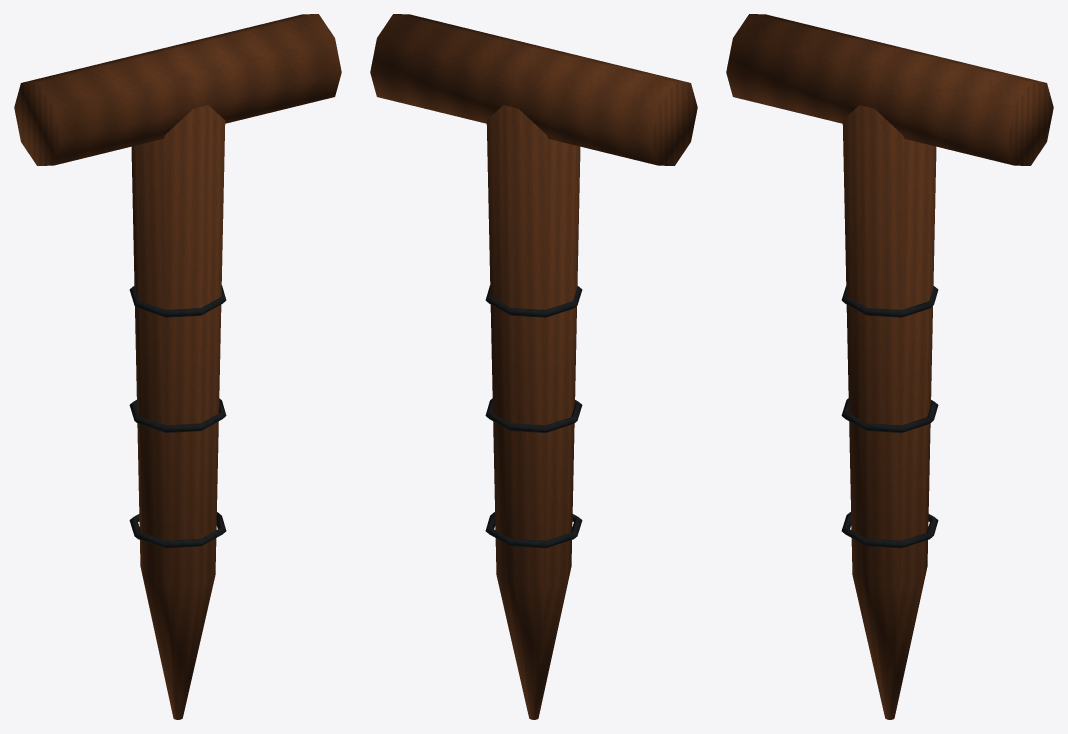
Rendered from Dibber.gltf.
3 views of the same model, side by side, from view 1: azimuth 30°, elevation 25°; view 2: azimuth 150°, elevation 25°; view 3: azimuth 330°, elevation 25° (orthographic).
Visible parts, largest first — view 1: Dibber__Body; view 2: Dibber__Body; view 3: Dibber__Body.
Boxes of the visible parts, x1=… form: Dibber__Body: x1=14, y1=14, x2=341, y2=719; Dibber__Body: x1=370, y1=14, x2=697, y2=719; Dibber__Body: x1=726, y1=14, x2=1053, y2=719.
Bounding box in the file's own units: 0.1288 × 0.2926 × 0.0398.
Materials: 1 (1 with a texture image).
